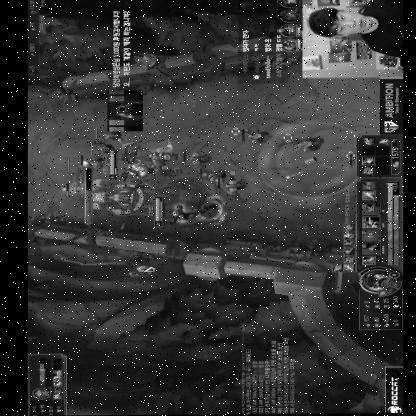donation: (106, 11, 142, 132)
streamer: (307, 0, 402, 60)
